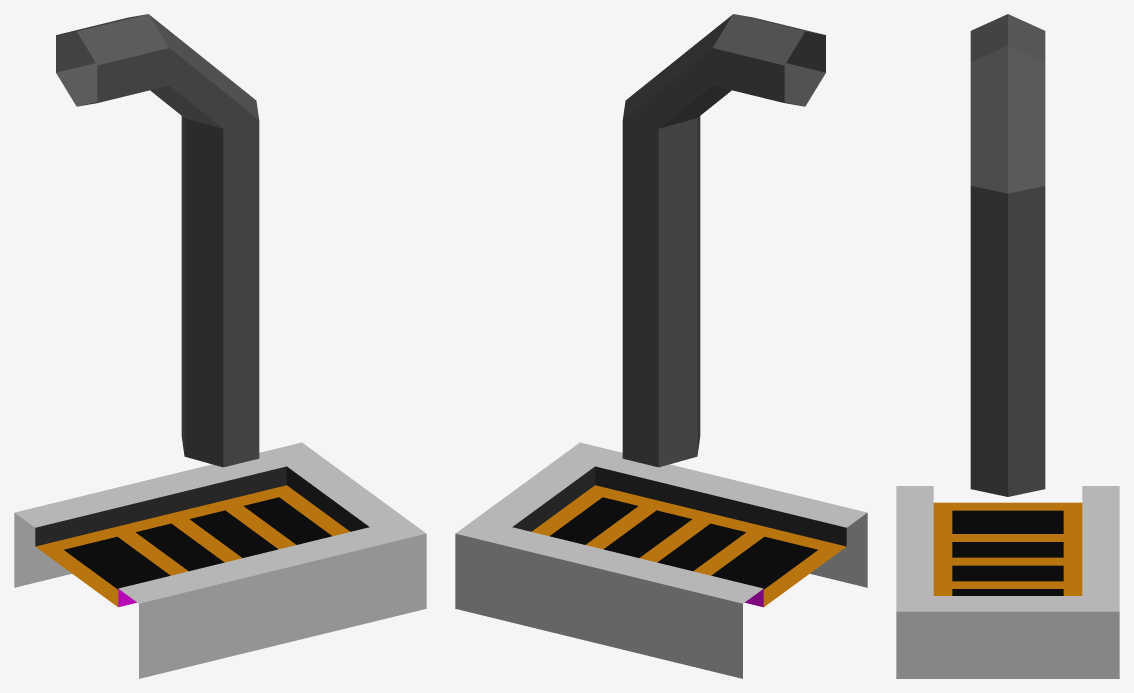
File: pipe&drain.obj
3 renders of one model, left to right at view 1: azimuth 30°, elevation 25°; view 2: azimuth 150°, elevation 25°; view 3: azimuth 270°, elevation 25°, orthographic. The views are drawn at different scales.
Visible parts, largest first — view 1: pipe&drain_back; view 2: pipe&drain_back; view 3: pipe&drain_back.
Part boxes in pixels (x1,y1,x2,y2): pipe&drain_back: (14,14,426,678); pipe&drain_back: (455,14,867,678); pipe&drain_back: (896,14,1119,678).
Bounding box in the file's own units: 0.64 × 1.28 × 0.48.
